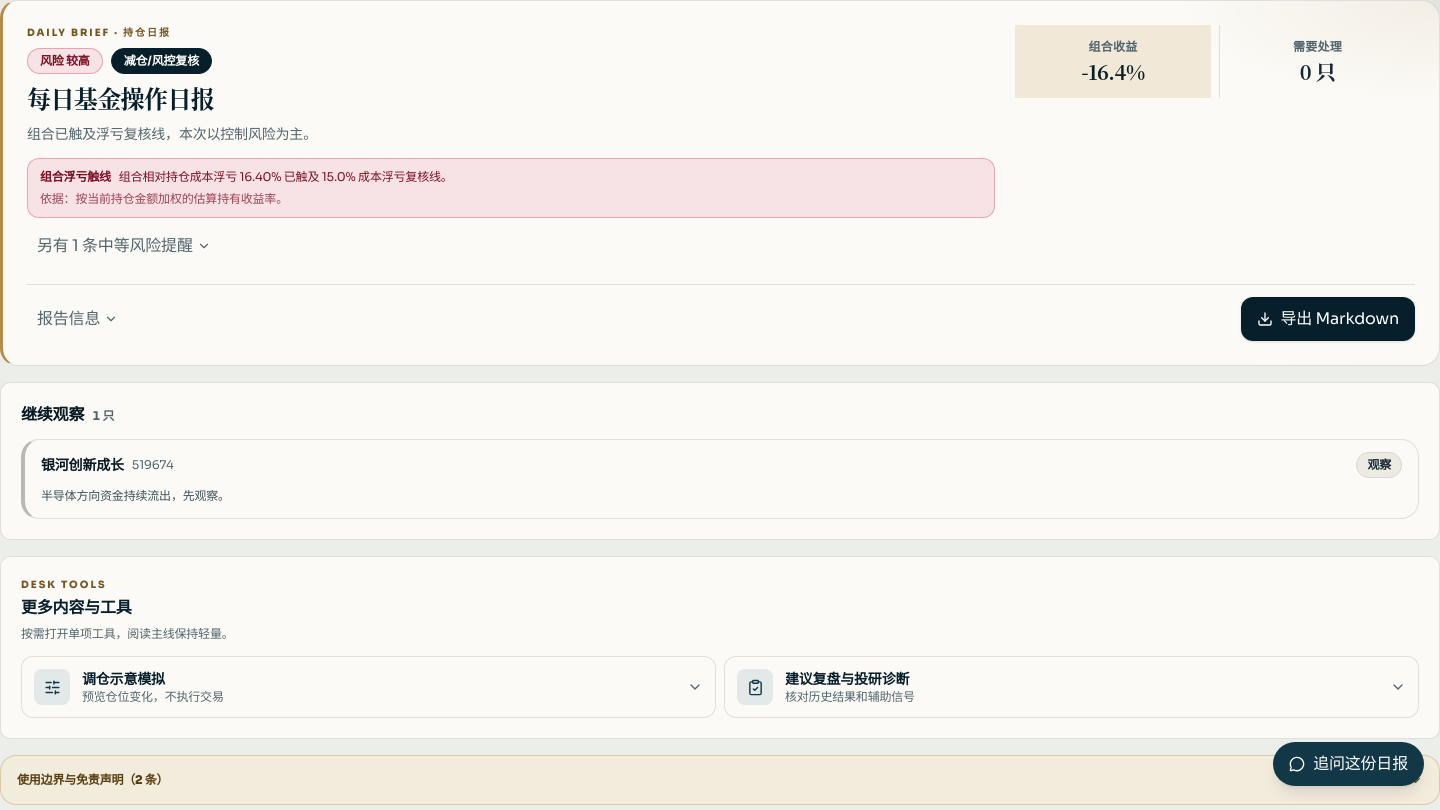
Test case: ReportPanel 结构化证据 › 把风险告警按严重度渲染出来，而不是只留一个风险徽标
Expected: the text "组合浮亏触线" is shown, [40,167,111,187]
Expected: the text "组合相对持仓成本浮亏 16.40% 已触及 15.0% 成本浮亏复核线。" is shown, [119,167,453,187]
Click the button "另有 1 条中等风险提醒". click: (124, 246)
box: [27,224,221,268]
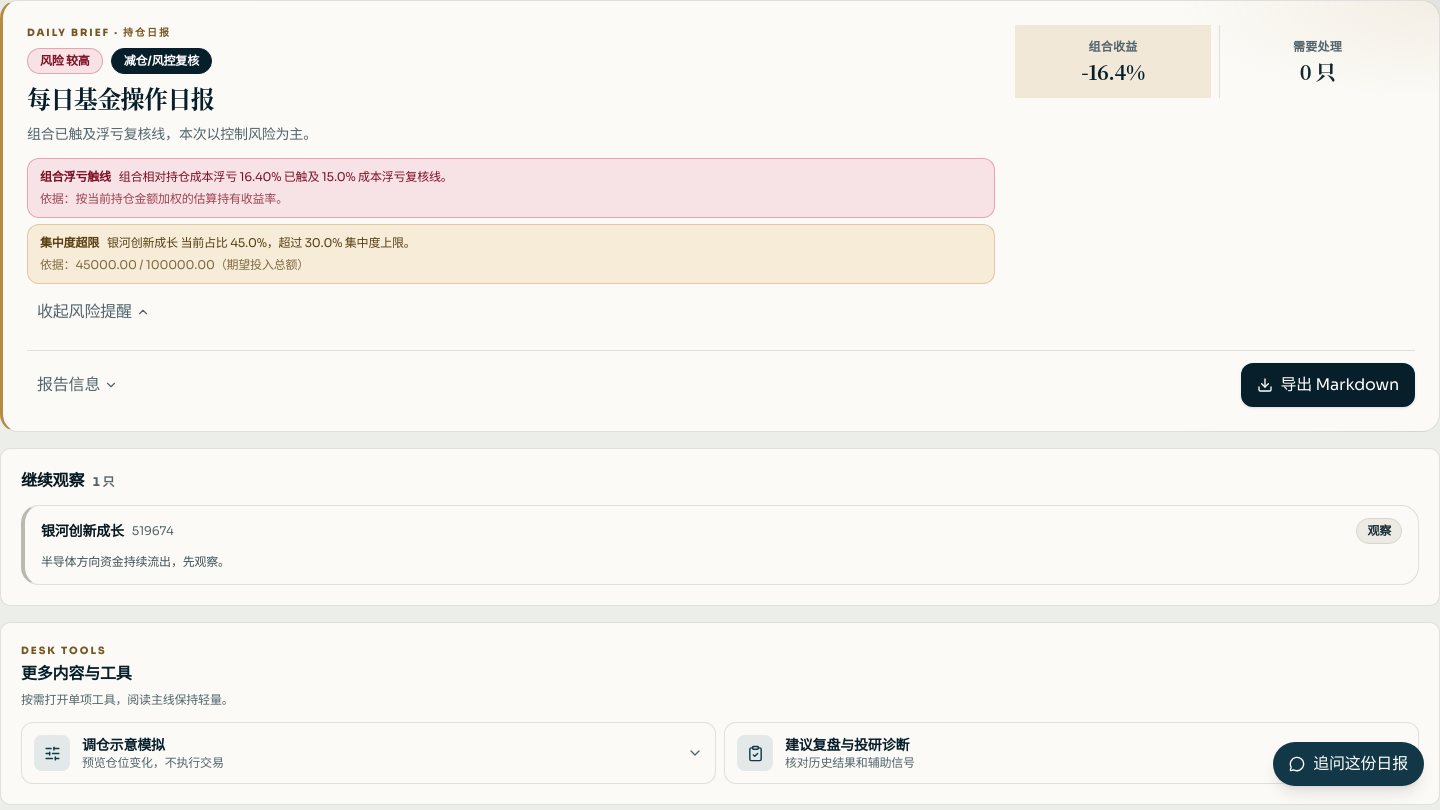
Expected: the text "集中度超限" is shown, [40,233,99,253]
